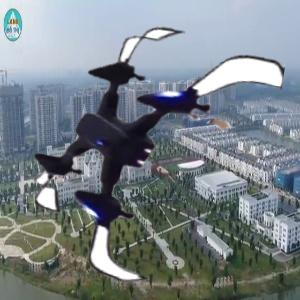drone: (4, 20, 272, 288)
